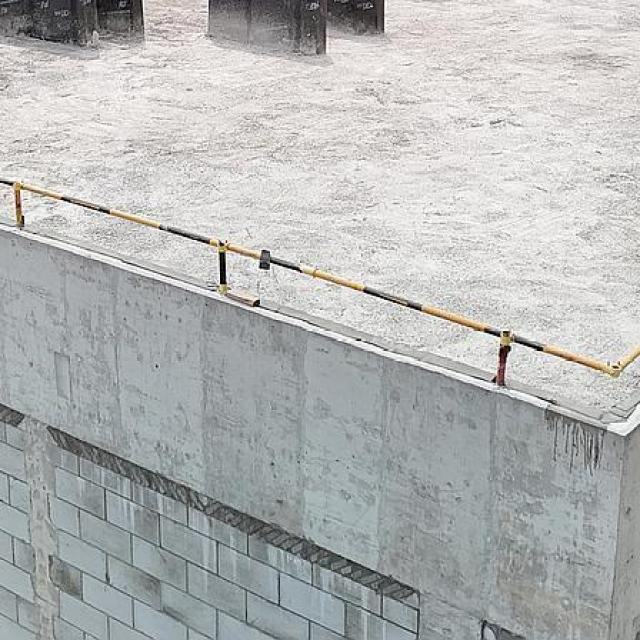edge_guardrail: (0, 168, 640, 391)
